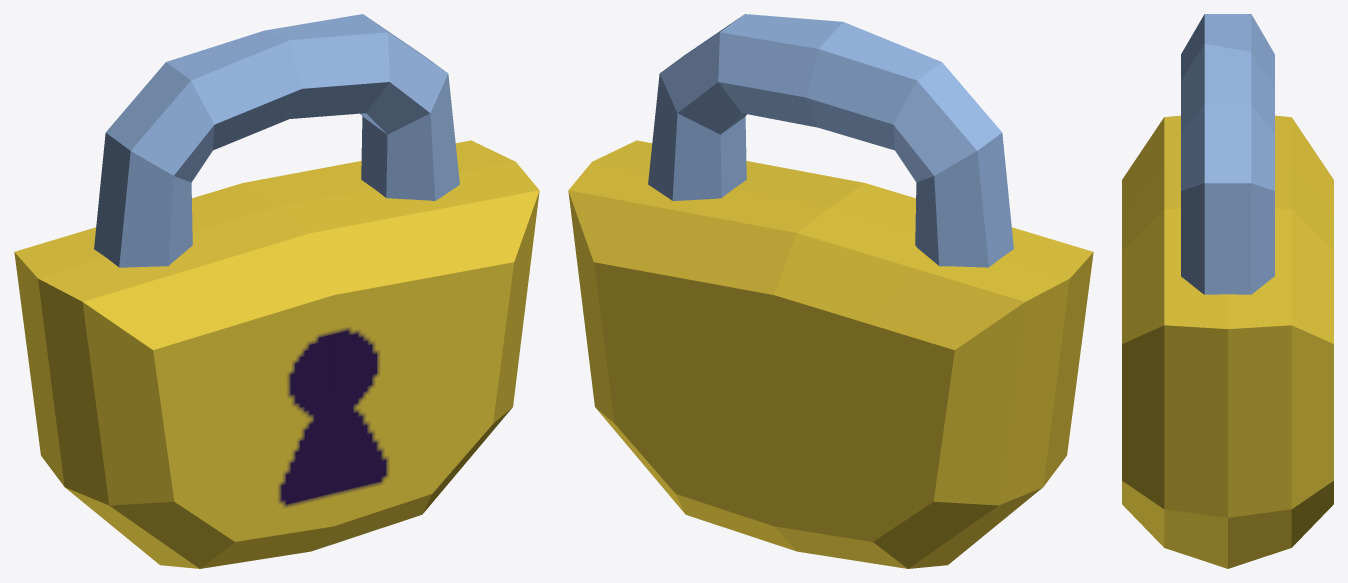
File: Padlock.fbx
3 renders of one model, left to right at view 1: azimuth 30°, elevation 25°; view 2: azimuth 150°, elevation 25°; view 3: azimuth 270°, elevation 25°, orthographic. The views are drawn at different scales.
Visible parts, largest first — view 1: Padlock; view 2: Padlock; view 3: Padlock.
Boxes of the visible parts, <box> form: Padlock: <box>14,14,539,568</box>; Padlock: <box>568,14,1093,568</box>; Padlock: <box>1122,14,1333,568</box>.
Size of the model in its own units: 602 by 621 by 247.
